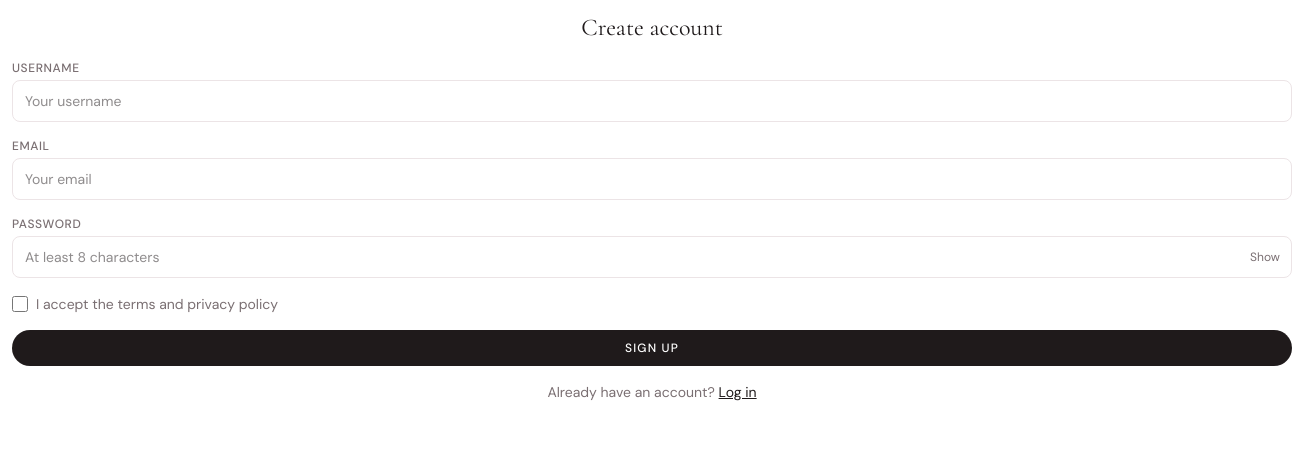
RegisterView › shows a general error for other failures
The image size is (1304, 470).
Type "mina" into the field with id "username" at (652, 101), box x1=12 y1=80 x2=1292 y2=122
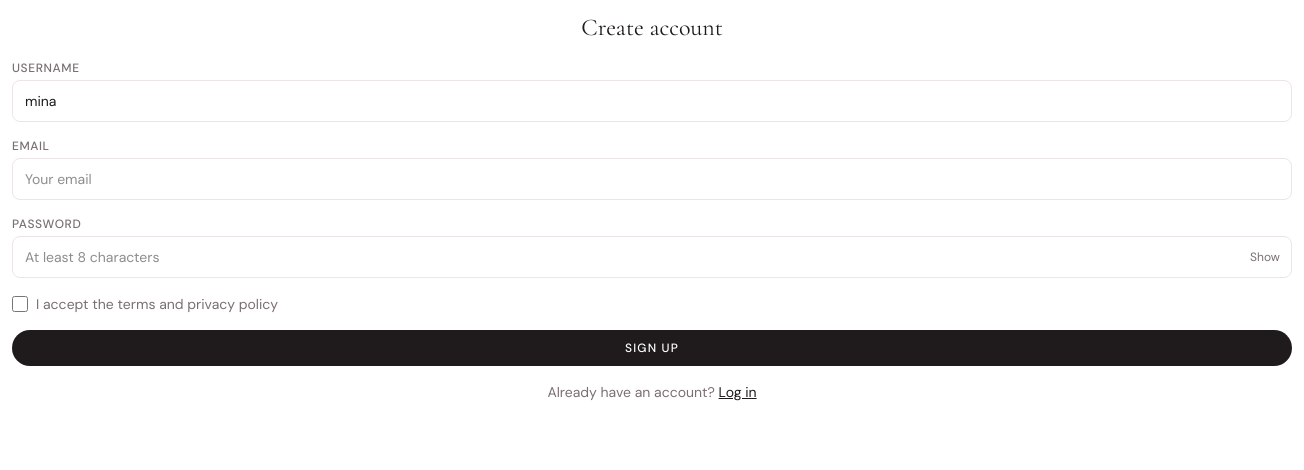
Type "mina@example.com" into the field with id "email" at (652, 179), box x1=12 y1=158 x2=1292 y2=200
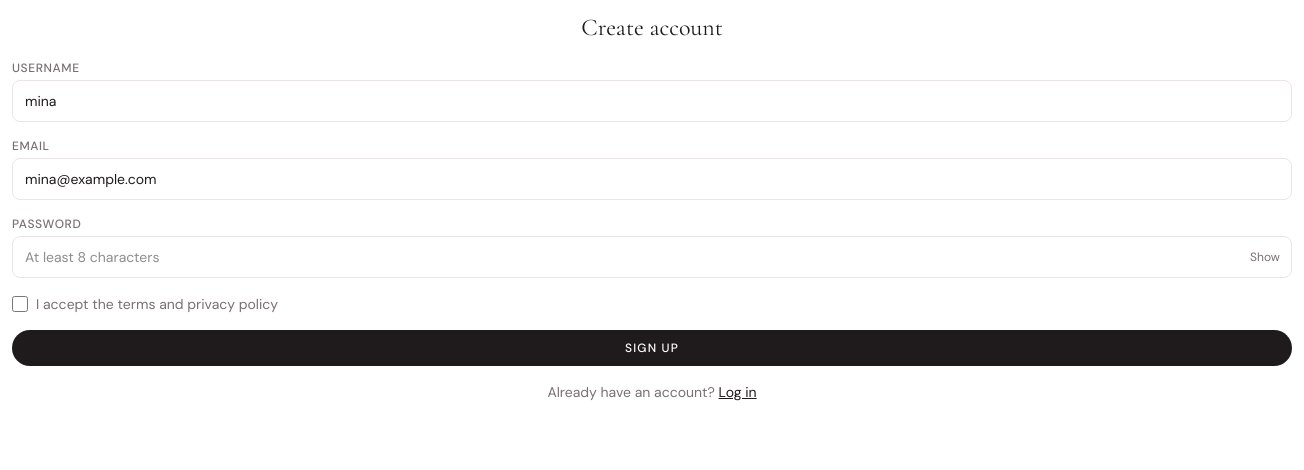
Type "password1" into the password field labelled "Password" at (652, 257), box x1=12 y1=236 x2=1292 y2=278
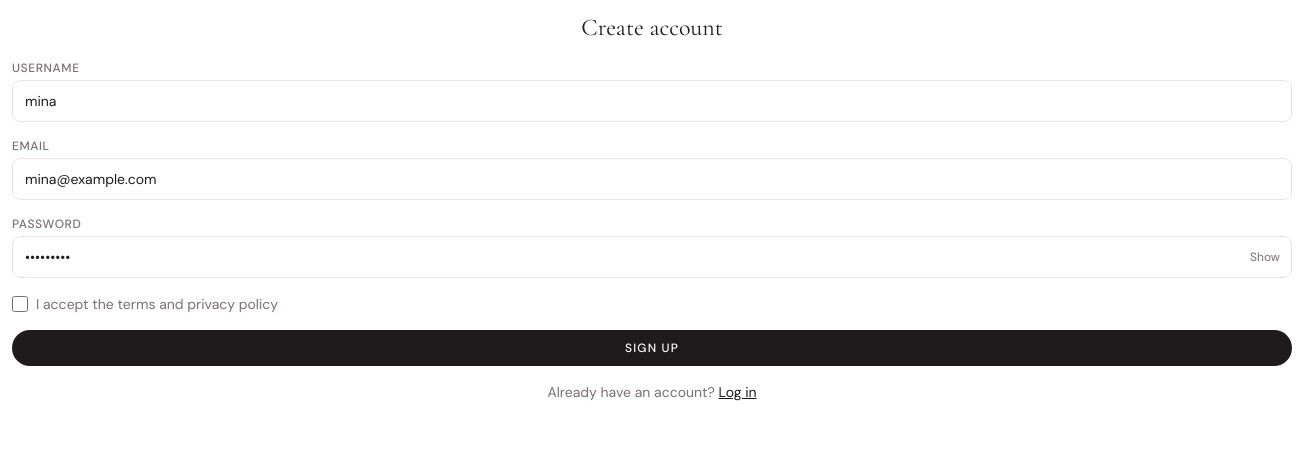
Click the checkbox labelled "I accept the terms and privacy policy" at (20, 304), box x1=12 y1=296 x2=28 y2=312
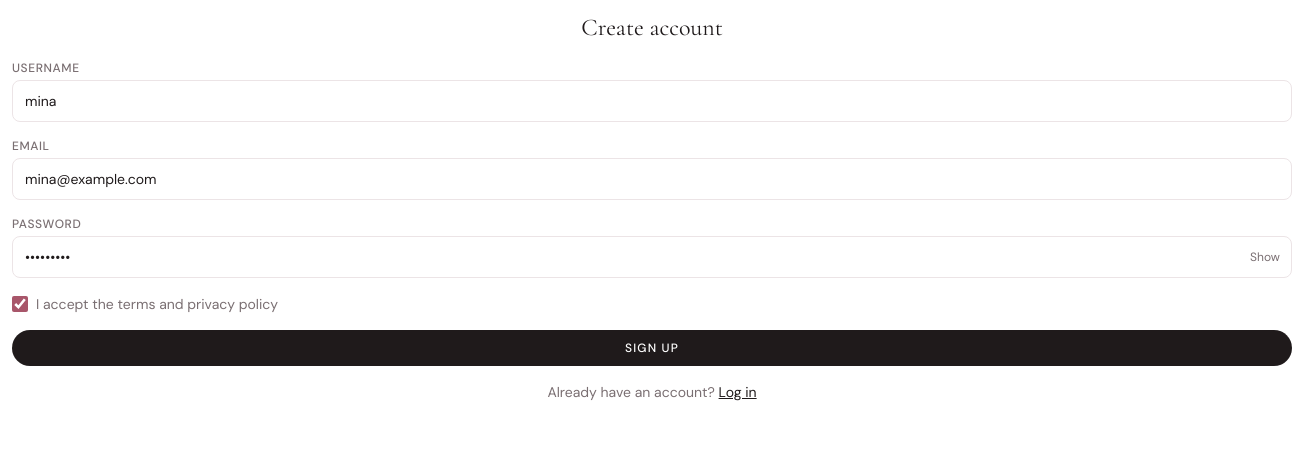
Submit the form
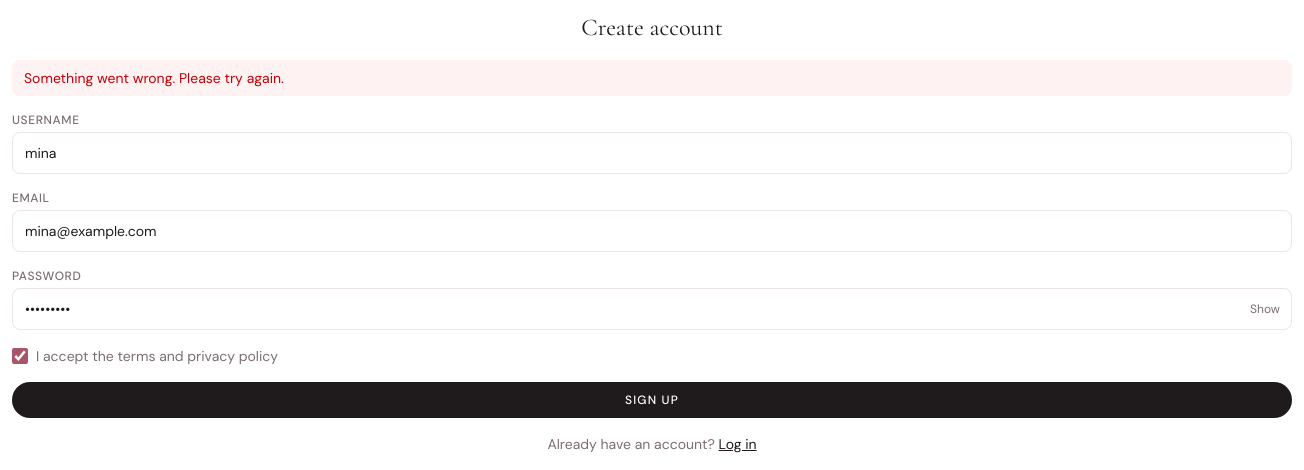
expect the message "Something went wrong. Please try again." is shown: met, box x1=12 y1=60 x2=1292 y2=96
